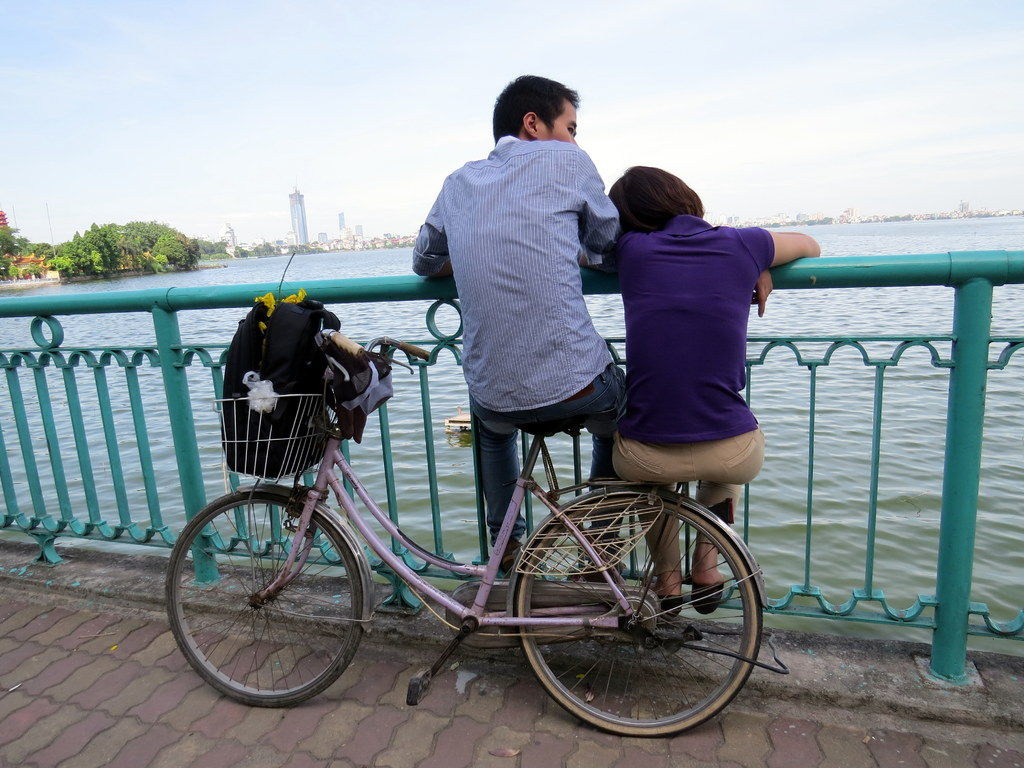Bike_away: (132, 374, 775, 739)
